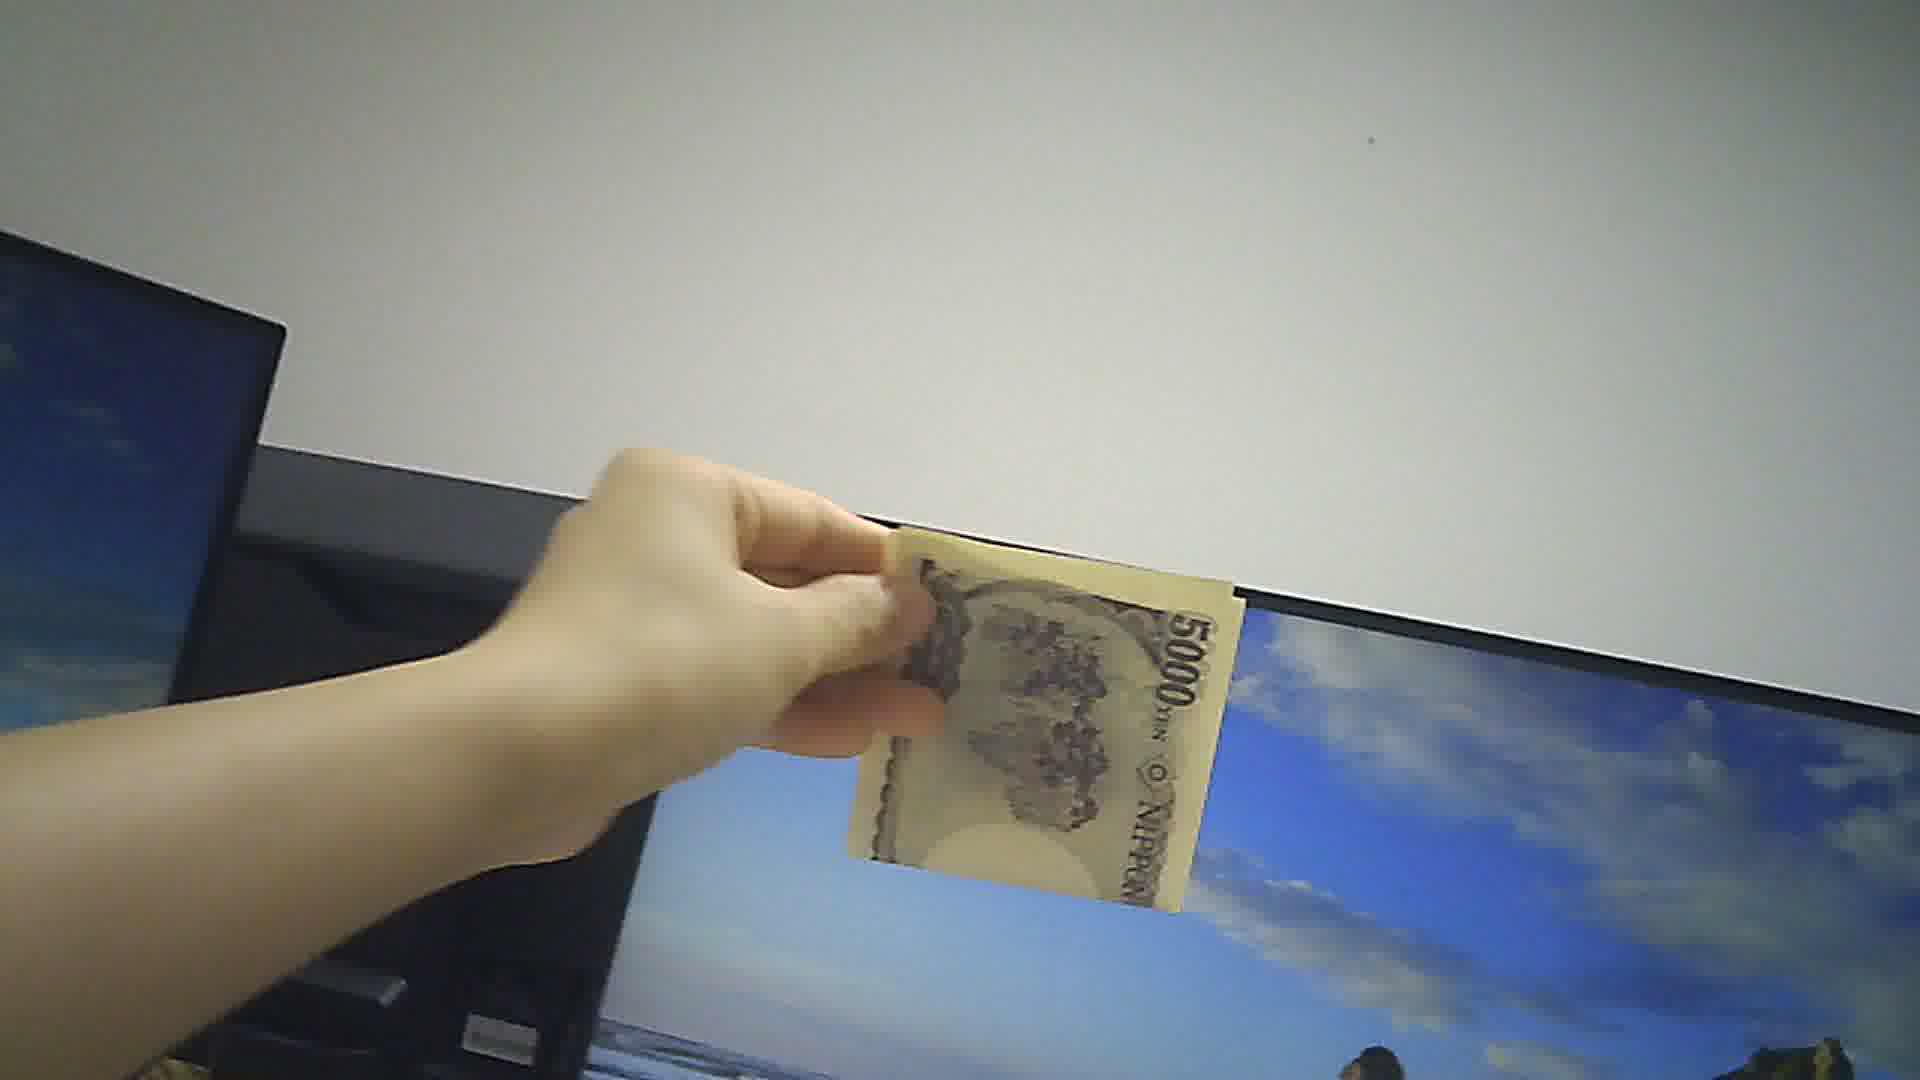5,000 Yen: (843, 505, 1249, 930)
